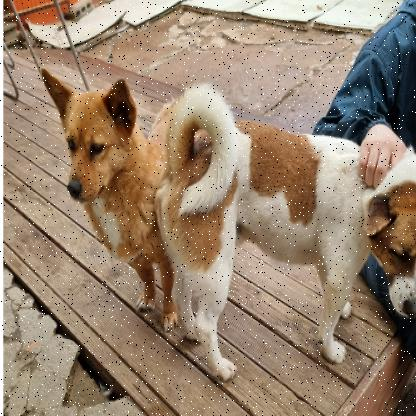dog: (156, 80, 416, 373), (43, 52, 202, 328)
